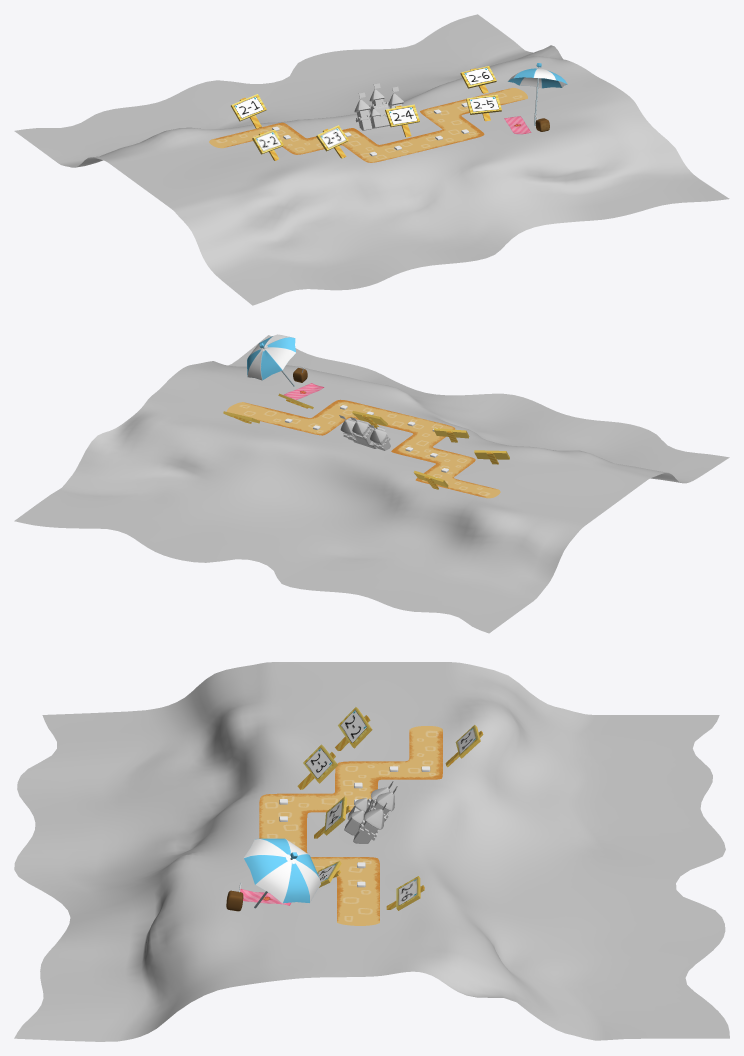
Rendered from stage2_select_ground.fbx.
The picture shows the model from 3 angles, top to bottom: view 1: azimuth 30°, elevation 25°; view 2: azimuth 150°, elevation 25°; view 3: azimuth 270°, elevation 25°; orthographic projection. The views are drawn at different scales.
Visible parts, largest first — view 1: ground, road, signboard01 (×6), pSphere1; view 2: ground, road, pSphere1; view 3: ground, road, pSphere1, signboard01 (×2).
Boxes of the visible parts, box(x1,y1,x2,y2) form: ground: box(14, 14, 729, 305); road: box(209, 87, 527, 162); signboard01 (×6): box(231, 66, 501, 154); pSphere1: box(508, 67, 567, 125); ground: box(14, 335, 729, 633); road: box(226, 399, 500, 498); pSphere1: box(247, 334, 295, 386); ground: box(14, 662, 729, 1041); road: box(259, 726, 442, 925); pSphere1: box(244, 838, 320, 908); signboard01 (×2): box(303, 707, 372, 783).
Size of the model in its own units: 24.54 by 4.53 by 22.95.
